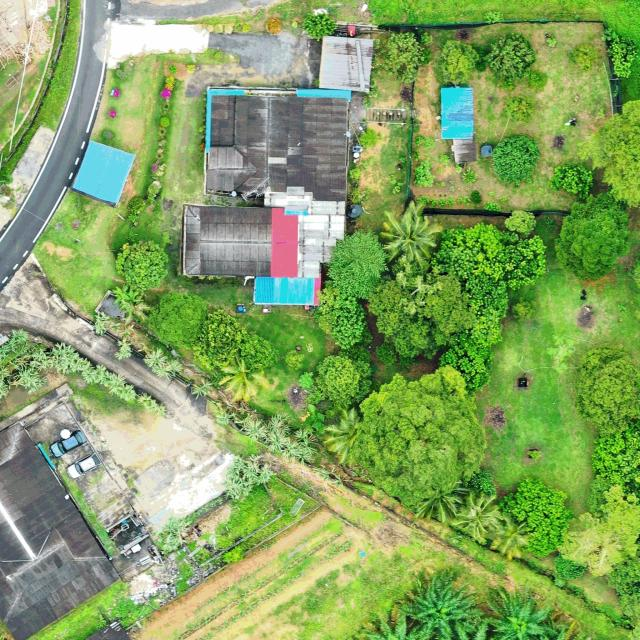Tree: (433, 222, 548, 396), (354, 365, 486, 514), (366, 266, 476, 361), (557, 484, 640, 576), (577, 98, 640, 211), (554, 193, 631, 281), (574, 344, 640, 435), (401, 569, 478, 639), (510, 474, 572, 558), (585, 424, 640, 518), (326, 228, 388, 298), (380, 200, 442, 268), (486, 583, 558, 640), (192, 308, 247, 371), (149, 290, 207, 348), (315, 288, 367, 350), (316, 353, 371, 408), (115, 239, 170, 291), (491, 132, 540, 187), (384, 32, 433, 85), (486, 30, 536, 80), (455, 492, 503, 544), (413, 476, 463, 524), (218, 361, 270, 402), (488, 516, 530, 561), (440, 40, 480, 86), (241, 333, 277, 374), (550, 163, 594, 196), (302, 10, 338, 42), (503, 210, 538, 236), (568, 43, 597, 71), (113, 284, 144, 310)
